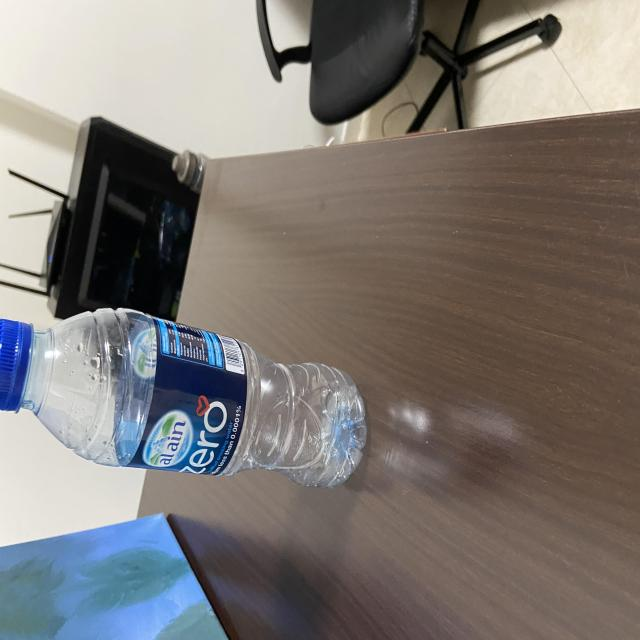bottle: (4, 298, 362, 502)
